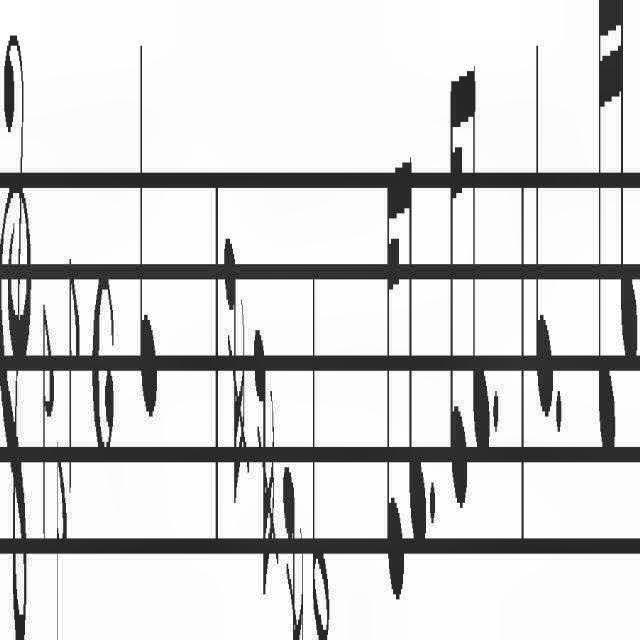Bass-clef: (0, 0, 30, 640)
Bemol: (36, 266, 56, 562), (64, 233, 84, 515), (50, 447, 66, 640)
Eighth-note: (469, 45, 491, 491), (406, 155, 426, 590)
Half-note: (310, 218, 336, 640)
Quarter-note: (532, 5, 556, 442), (136, 0, 159, 436)
Sixteenth-note: (592, 0, 614, 472), (448, 30, 468, 546), (383, 142, 403, 628), (617, 0, 639, 416)
